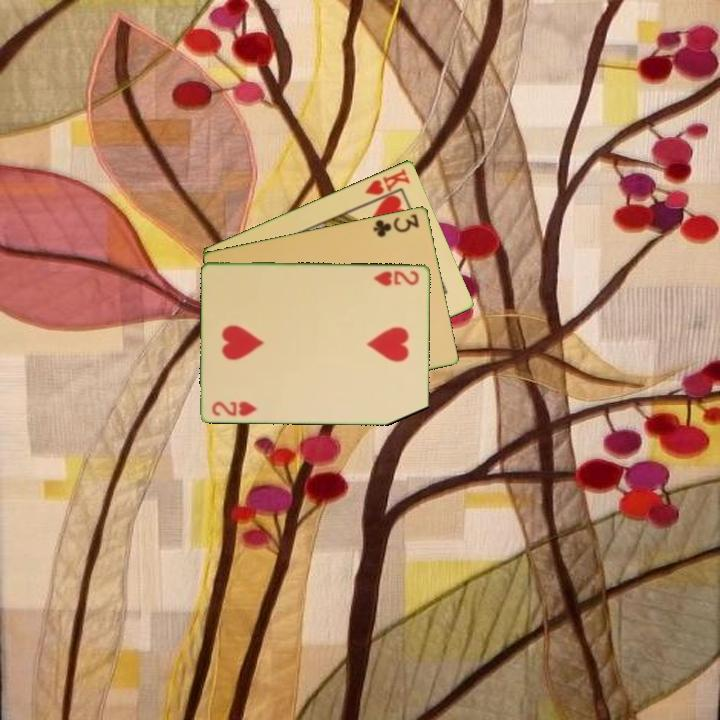2h: (209, 397, 259, 419), (370, 267, 422, 288)
3c: (369, 210, 422, 240)
Kh: (362, 165, 413, 206)
